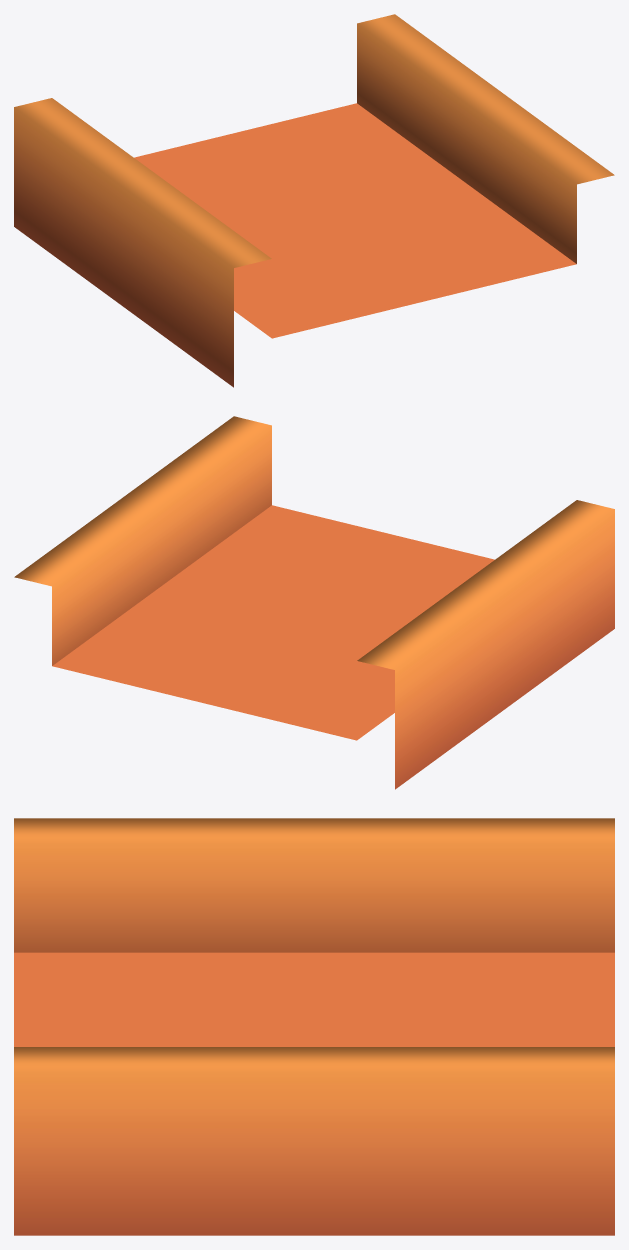
Rendered from kenney-toy-car-track-narrow.glb.
3 renders of one model, top to bottom at view 1: azimuth 30°, elevation 25°; view 2: azimuth 150°, elevation 25°; view 3: azimuth 270°, elevation 25°, orthographic. The views are drawn at different scales.
Visible parts, largest first — view 1: track-narrow; view 2: track-narrow; view 3: track-narrow.
Boxes of the visible parts, x1,y1,x2,y2 form: track-narrow: (14, 14, 614, 387); track-narrow: (14, 416, 614, 789); track-narrow: (14, 818, 614, 1235).
Bounding box in the file's own units: 1 × 0.3 × 1.
Materials: 1 (1 with a texture image).
